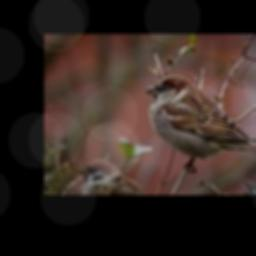Sparrow: (145, 75, 256, 172)
